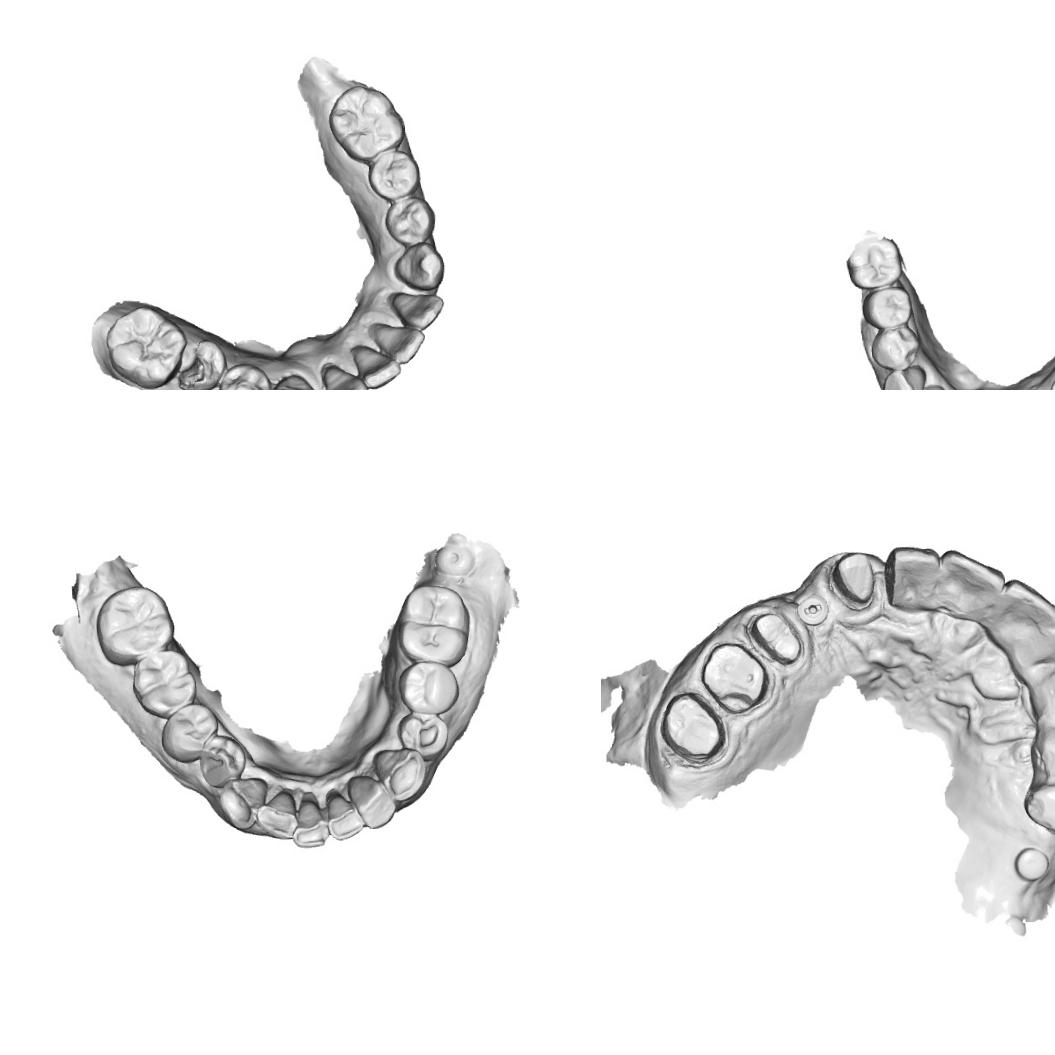canine: (370, 745, 428, 806), (212, 773, 270, 831), (390, 240, 446, 293), (878, 362, 929, 390), (268, 370, 321, 390)
crown: (696, 637, 771, 717), (657, 687, 728, 768), (751, 608, 804, 674), (830, 550, 881, 608)
implant: (431, 540, 473, 578), (1011, 844, 1048, 882)
implant_minus: (792, 591, 832, 627)
incisor: (935, 544, 1010, 620), (883, 543, 944, 611), (999, 574, 1055, 641), (366, 318, 426, 365), (250, 787, 298, 841), (386, 287, 444, 331), (289, 789, 331, 849), (350, 341, 402, 389), (352, 776, 397, 830), (322, 788, 365, 842), (318, 358, 370, 390), (1039, 617, 1055, 669)
molar: (103, 303, 189, 390), (324, 81, 408, 165), (393, 579, 471, 668), (95, 582, 177, 666), (129, 646, 202, 720), (842, 234, 906, 293)
premolar: (161, 701, 220, 762), (397, 657, 459, 715), (194, 730, 250, 788), (364, 148, 420, 204), (173, 335, 228, 390), (381, 194, 437, 248), (868, 322, 922, 374), (396, 708, 449, 760), (860, 284, 914, 330), (1019, 780, 1055, 843), (1030, 722, 1055, 788), (217, 360, 271, 390)
